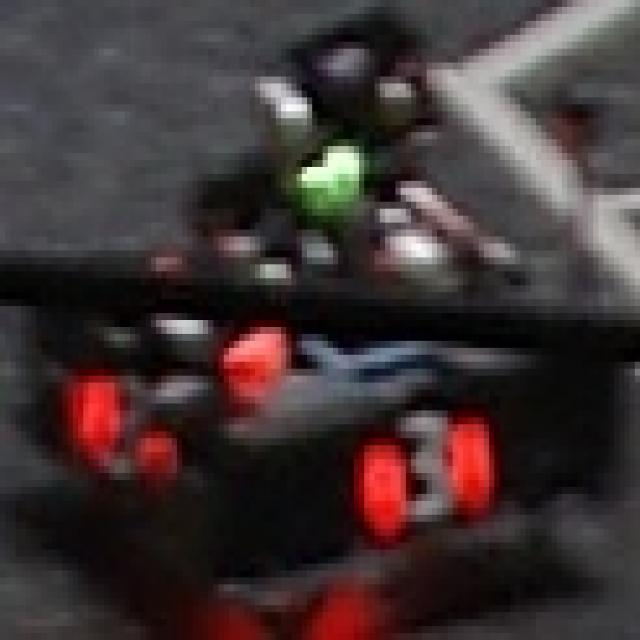R3: (338, 382, 500, 536)
